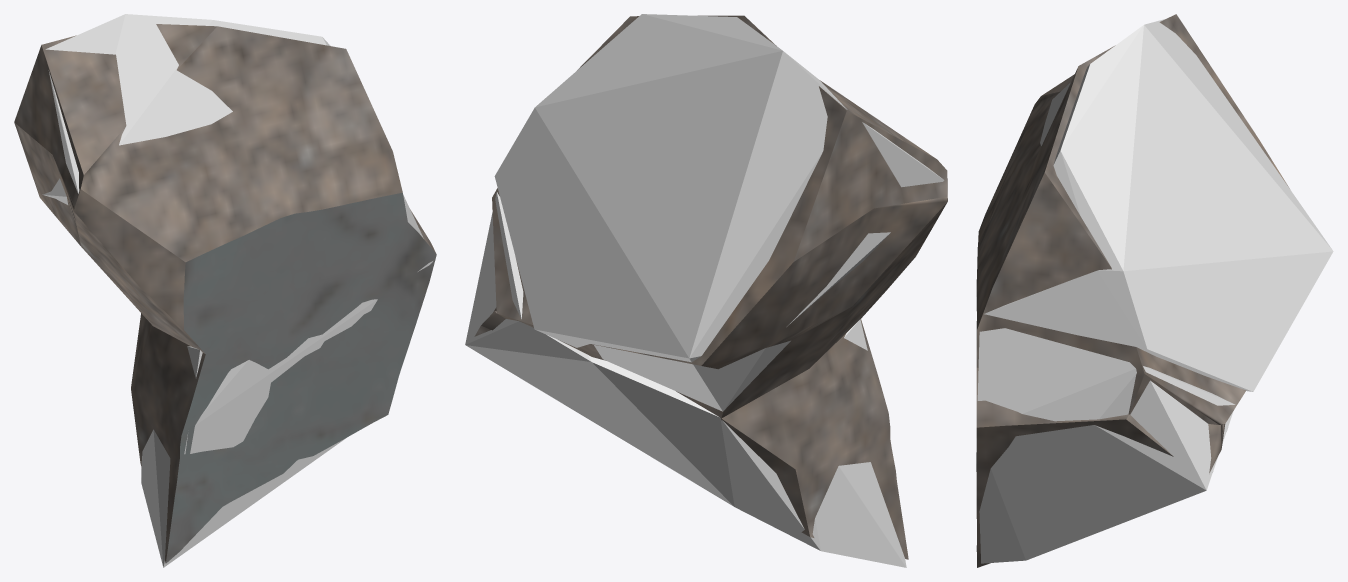
The model's file is SM_Rock_09.fbx.
3 renders of one model, left to right at view 1: azimuth 30°, elevation 25°; view 2: azimuth 150°, elevation 25°; view 3: azimuth 270°, elevation 25°, orthographic. The views are drawn at different scales.
Parts seen in each view (by area): view 1: SM_Rock_09_LOD0, SM_Rock_09_ConvexHulls; view 2: SM_Rock_09_ConvexHulls, SM_Rock_09_LOD0; view 3: SM_Rock_09_ConvexHulls, SM_Rock_09_LOD0.
Part boxes in pixels (<box>): SM_Rock_09_LOD0: <box>14,24,436,563</box>; SM_Rock_09_ConvexHulls: <box>42,14,432,567</box>; SM_Rock_09_ConvexHulls: <box>465,14,944,567</box>; SM_Rock_09_LOD0: <box>474,15,947,559</box>; SM_Rock_09_ConvexHulls: <box>977,19,1333,563</box>; SM_Rock_09_LOD0: <box>976,14,1289,567</box>.
Size of the model in its own units: 33.72 by 26.05 by 44.46.
